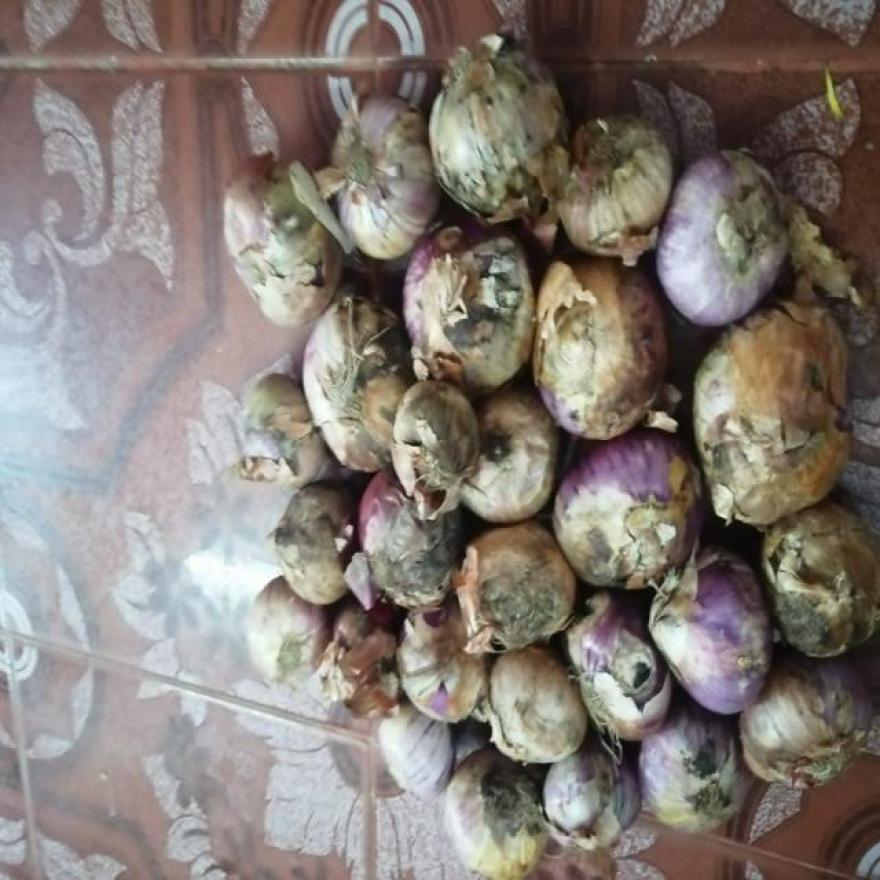Rotten: (770, 563, 840, 657), (479, 568, 549, 635), (441, 138, 531, 190), (465, 260, 503, 367), (406, 417, 468, 477), (386, 536, 442, 595), (278, 518, 324, 588), (688, 750, 721, 783)
